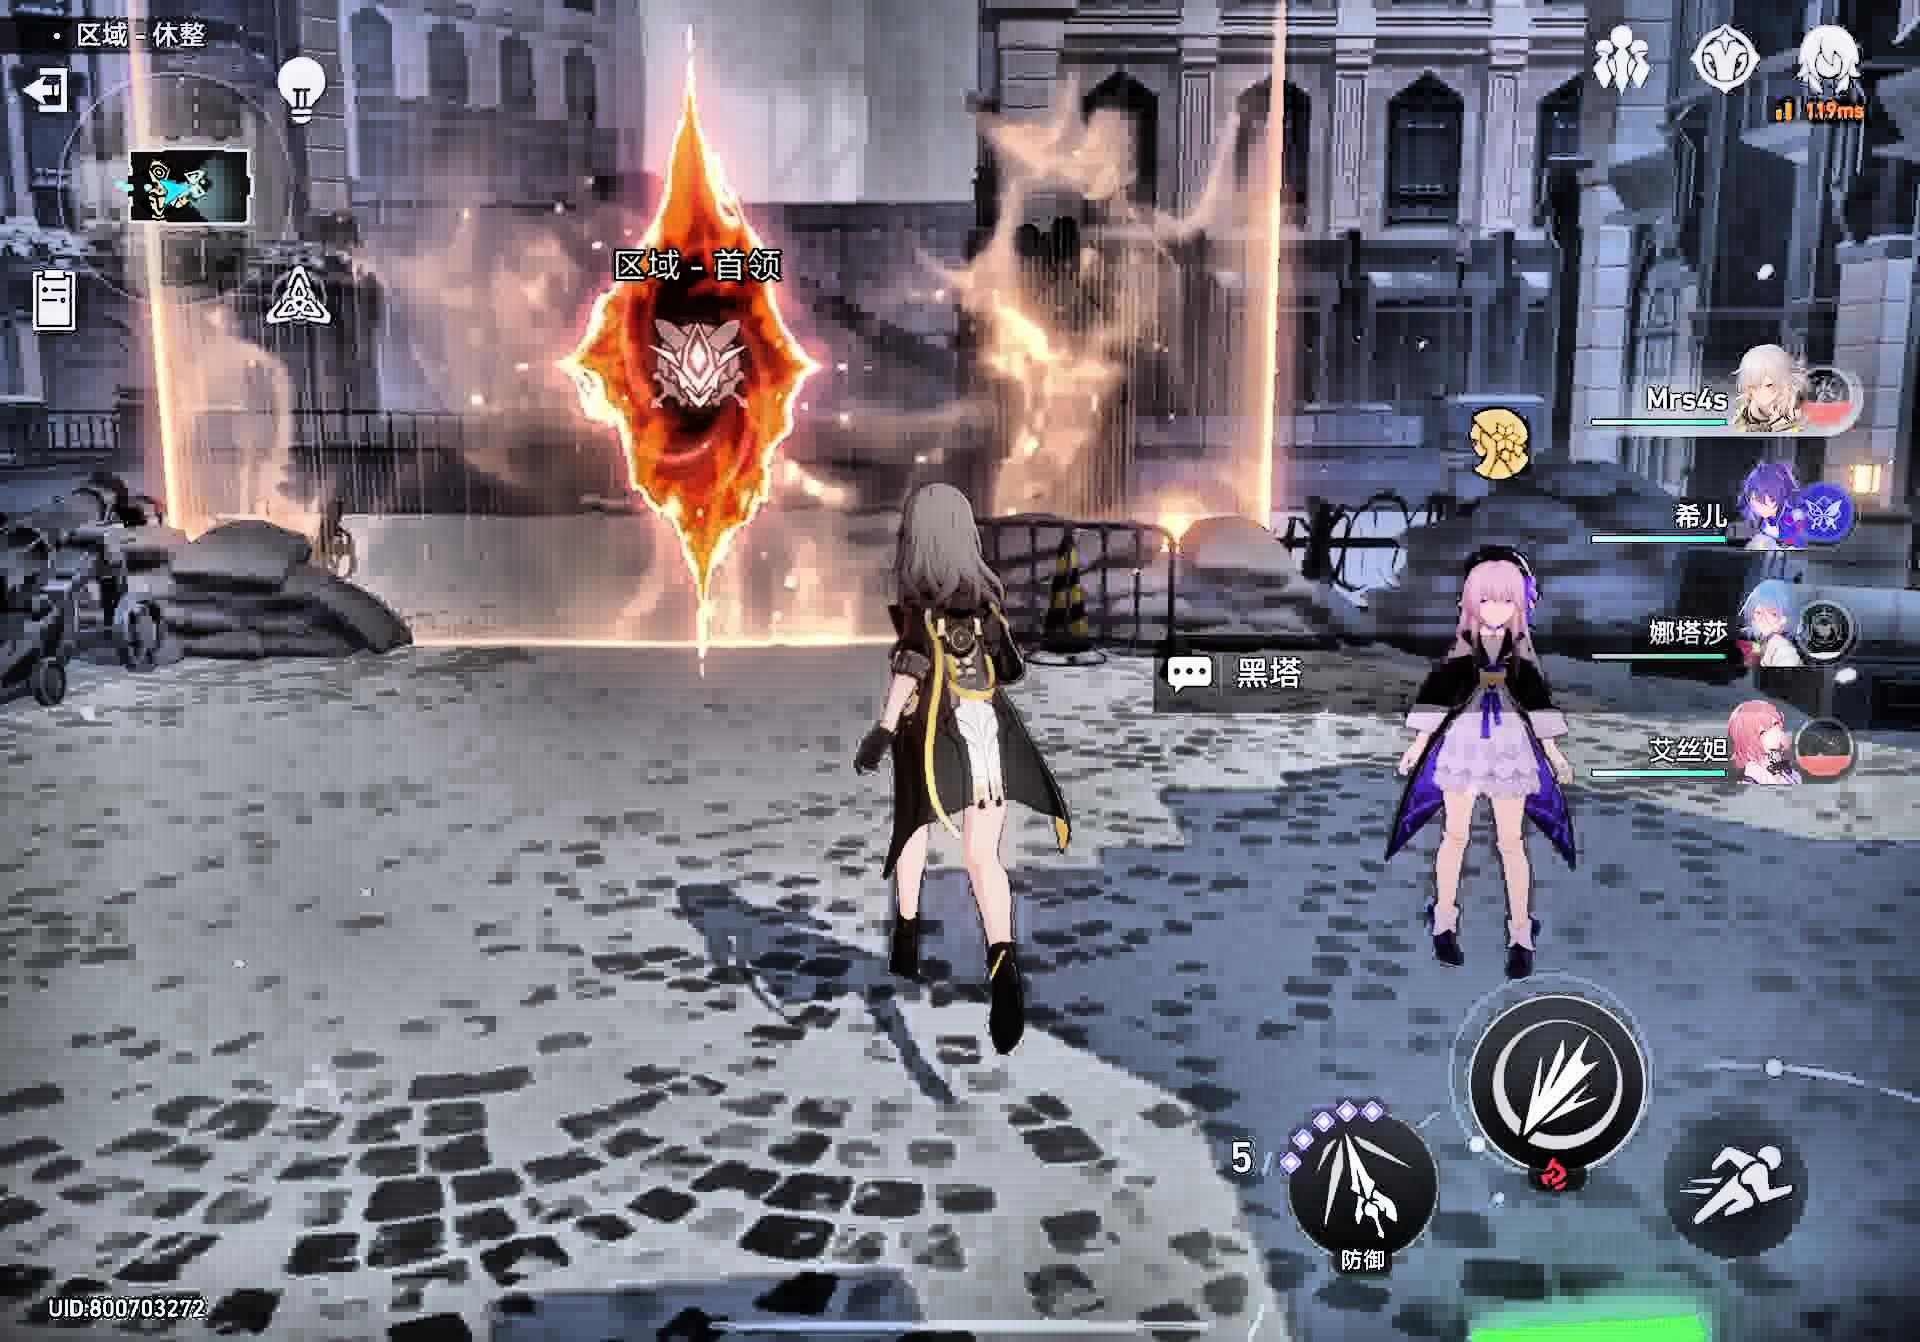BattleDoor: (537, 112, 816, 674)
Self: (852, 484, 1075, 1075)
TeamMate: (1386, 543, 1579, 986)
